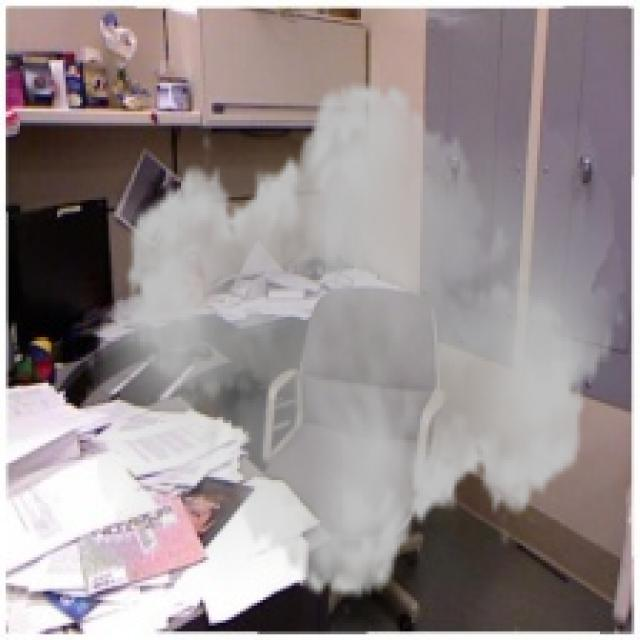smoke: (85, 60, 626, 620)
